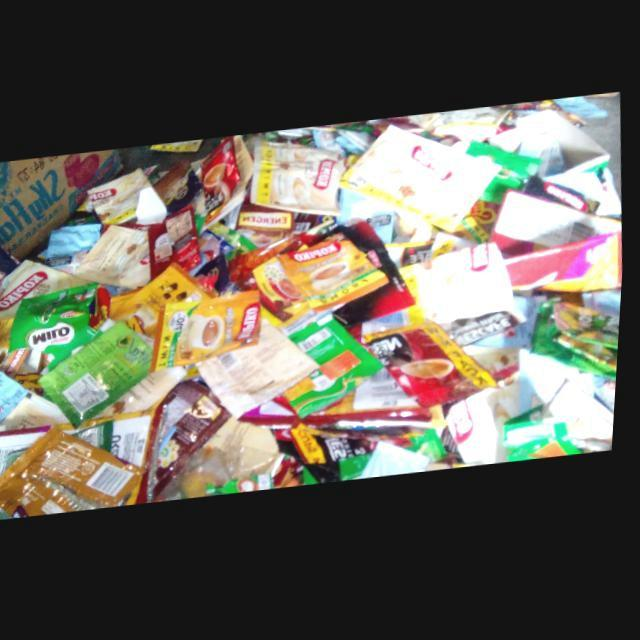plastic_sachet: (340, 127, 503, 234), (0, 428, 153, 516), (198, 320, 323, 421), (43, 319, 156, 429), (367, 323, 504, 411), (286, 314, 387, 419), (277, 234, 393, 314), (153, 292, 264, 375), (159, 381, 236, 499), (114, 261, 220, 339), (253, 142, 345, 218), (12, 283, 101, 355), (0, 259, 96, 319), (80, 168, 169, 230), (77, 225, 153, 289), (201, 137, 243, 227), (0, 237, 23, 304)
